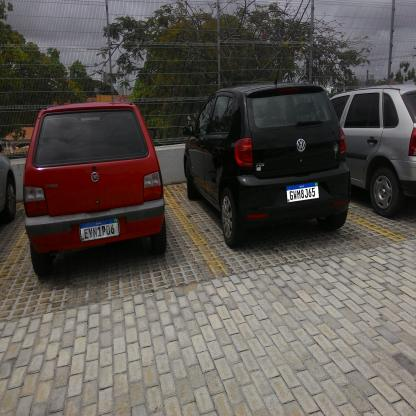PlacaM: (79, 217, 120, 242), (286, 181, 320, 203)
